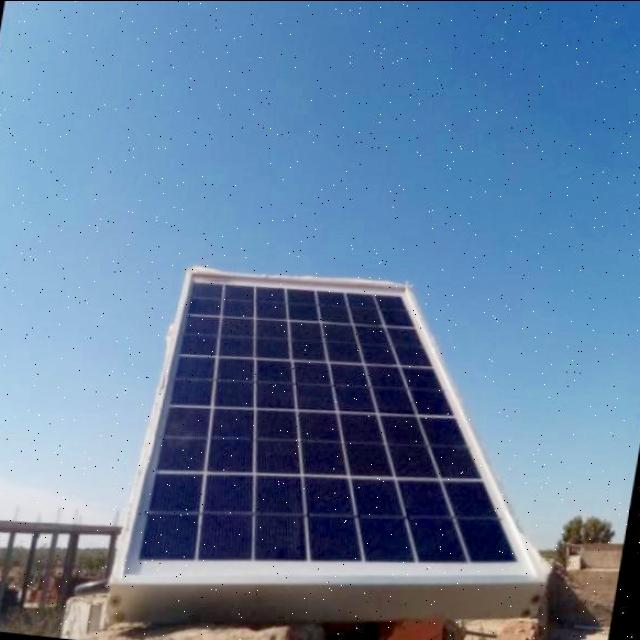Normal Solar Panel: (119, 254, 599, 632)
